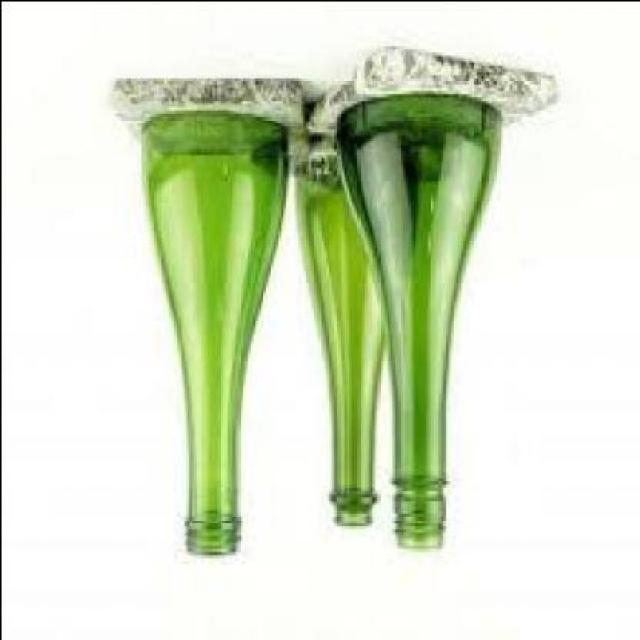GLASS: (338, 95, 500, 551), (145, 112, 289, 560), (300, 153, 394, 529)
